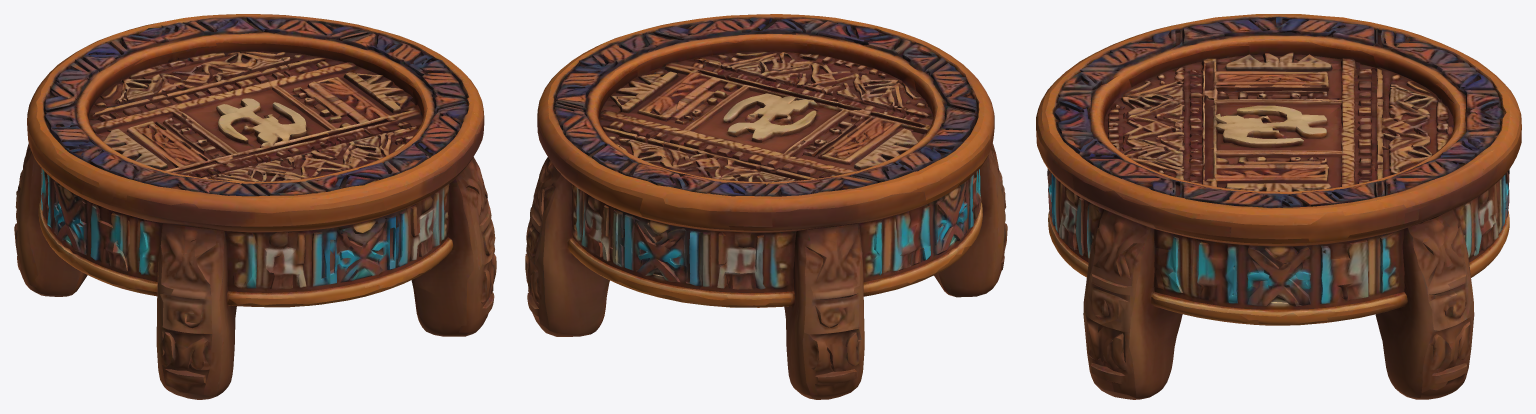
File: carved_stool.glb
The picture shows the model from 3 angles, left to right: view 1: azimuth 30°, elevation 25°; view 2: azimuth 150°, elevation 25°; view 3: azimuth 270°, elevation 25°; orthographic projection. The views are drawn at different scales.
Visible parts, largest first — view 1: geometry_0; view 2: geometry_0; view 3: geometry_0.
Boxes of the visible parts, box(x1,y1,x2,y2) form: geometry_0: box(14, 14, 496, 399); geometry_0: box(525, 14, 1007, 399); geometry_0: box(1036, 14, 1521, 399).
Size of the model in its own units: 0.45 by 0.2211 by 0.4504.
1 material, 1 textured.
